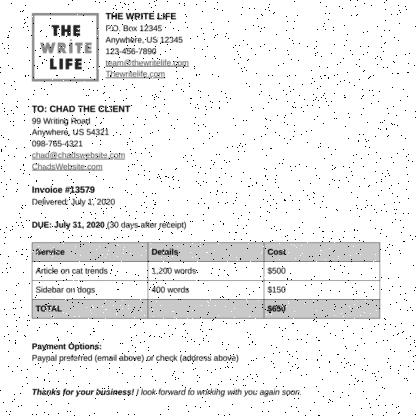Paragraph: (27, 100, 133, 176), (29, 182, 188, 232), (102, 10, 192, 84), (29, 338, 243, 366), (28, 384, 306, 401)
Table: (31, 242, 380, 318)
